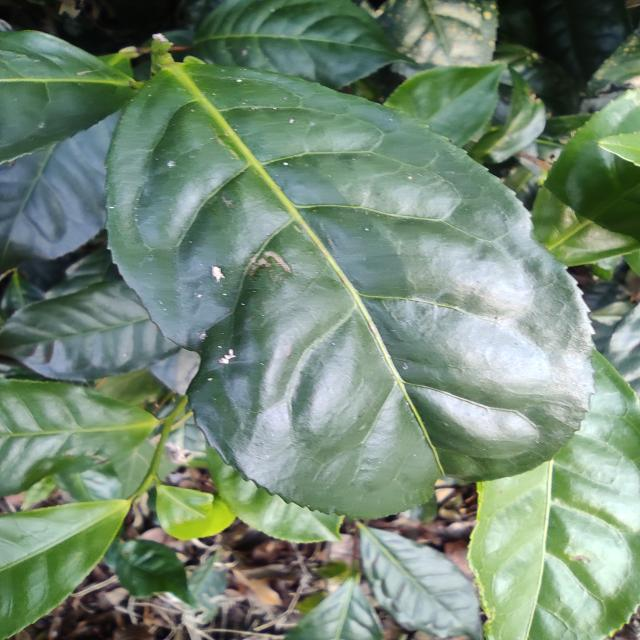Category D(7+ days, Not for Tea): (75, 54, 611, 531)
